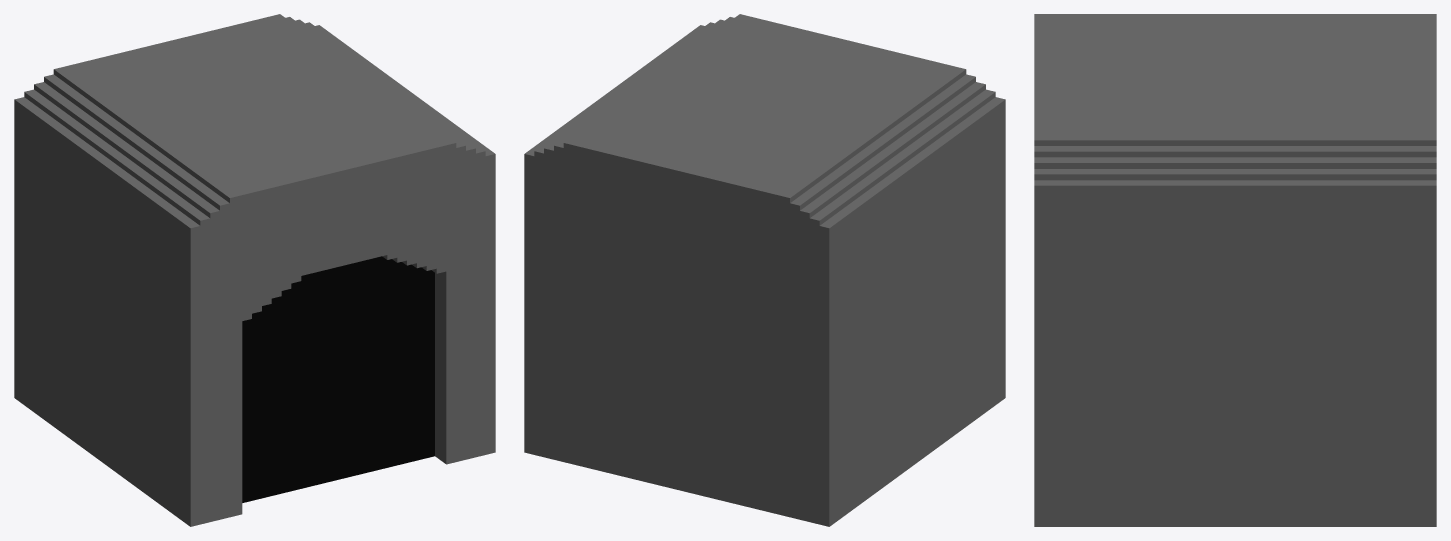
The model's file is Tunnel.obj.
3 views of the same model, side by side, from view 1: azimuth 30°, elevation 25°; view 2: azimuth 150°, elevation 25°; view 3: azimuth 270°, elevation 25° (orthographic). The views are drawn at different scales.
Bounding box in the file's own units: 12.4 × 12.4 × 12.4.
Materials: 1 (1 with a texture image).
